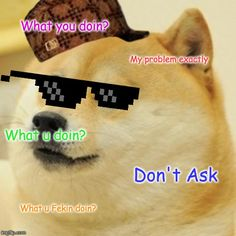doge: (8, 1, 221, 230)
